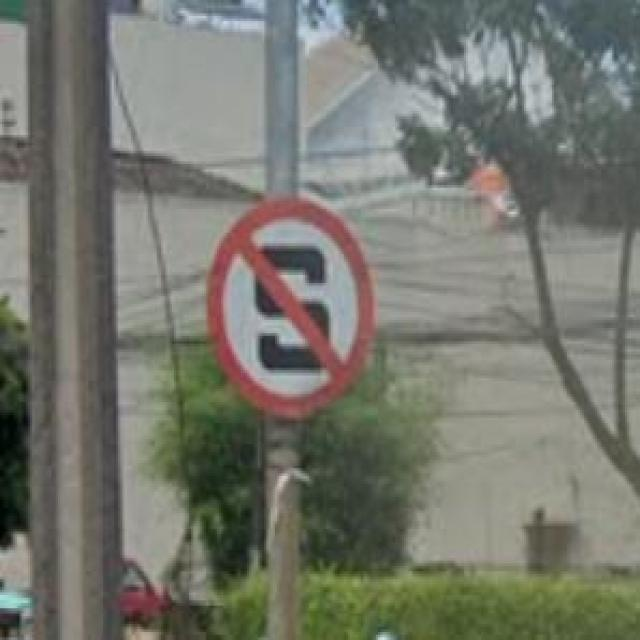traffic sign: (208, 204, 376, 424)
